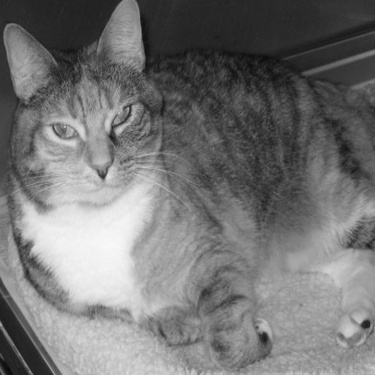cat: (2, 8, 367, 358)
